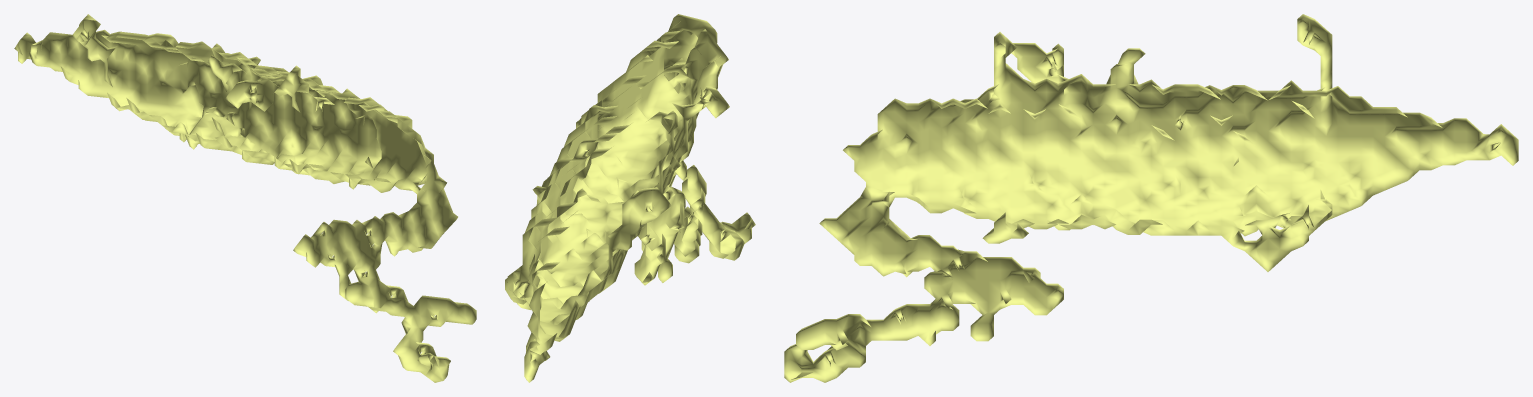
File: osteocyte_30.glb
The picture shows the model from 3 angles, left to right: view 1: azimuth 30°, elevation 25°; view 2: azimuth 150°, elevation 25°; view 3: azimuth 270°, elevation 25°; orthographic projection. The views are drawn at different scales.
Parts seen in each view (by area): view 1: osteocyte_30; view 2: osteocyte_30; view 3: osteocyte_30.
Boxes of the visible parts, x1,y1,x2,y2 form: osteocyte_30: (14,14,476,382); osteocyte_30: (505,14,755,382); osteocyte_30: (784,14,1518,382).
Bounding box in the file's own units: 11.18 × 13.41 × 28.17.
